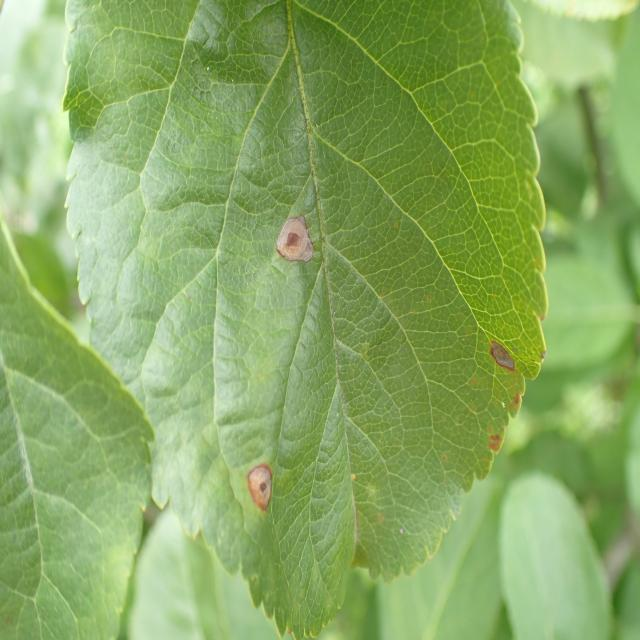frog-eye-leaf-spot: (62, 0, 548, 638)
